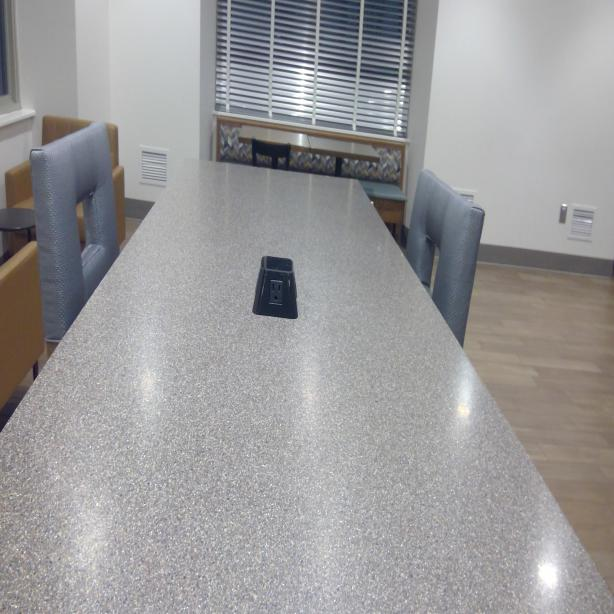typeb: (268, 278, 285, 305)
